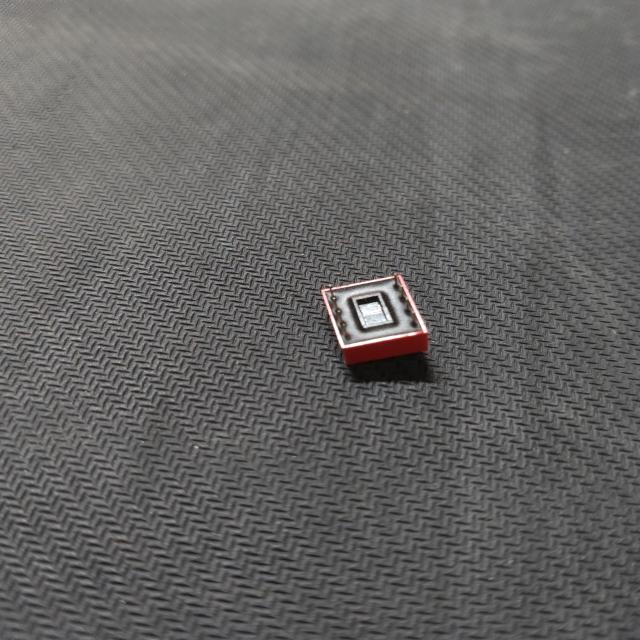switch: (312, 271, 442, 376)
